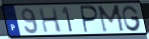1: (61, 6, 75, 34)
9: (21, 7, 40, 35)
G: (121, 5, 142, 33)
H: (37, 7, 63, 34)
M: (96, 4, 127, 34)
P: (80, 5, 100, 35)
